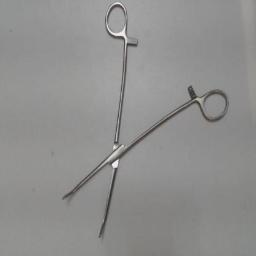Lahey Forceps: (58, 0, 230, 242)
